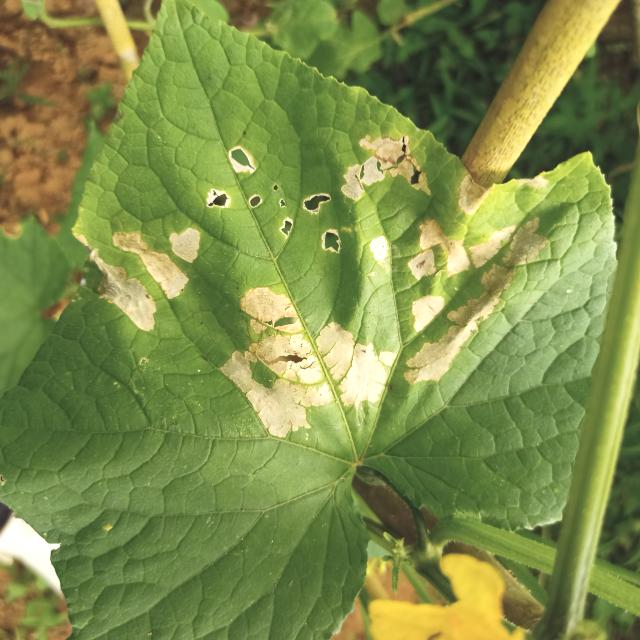disease_cucumber: (74, 136, 551, 438)
